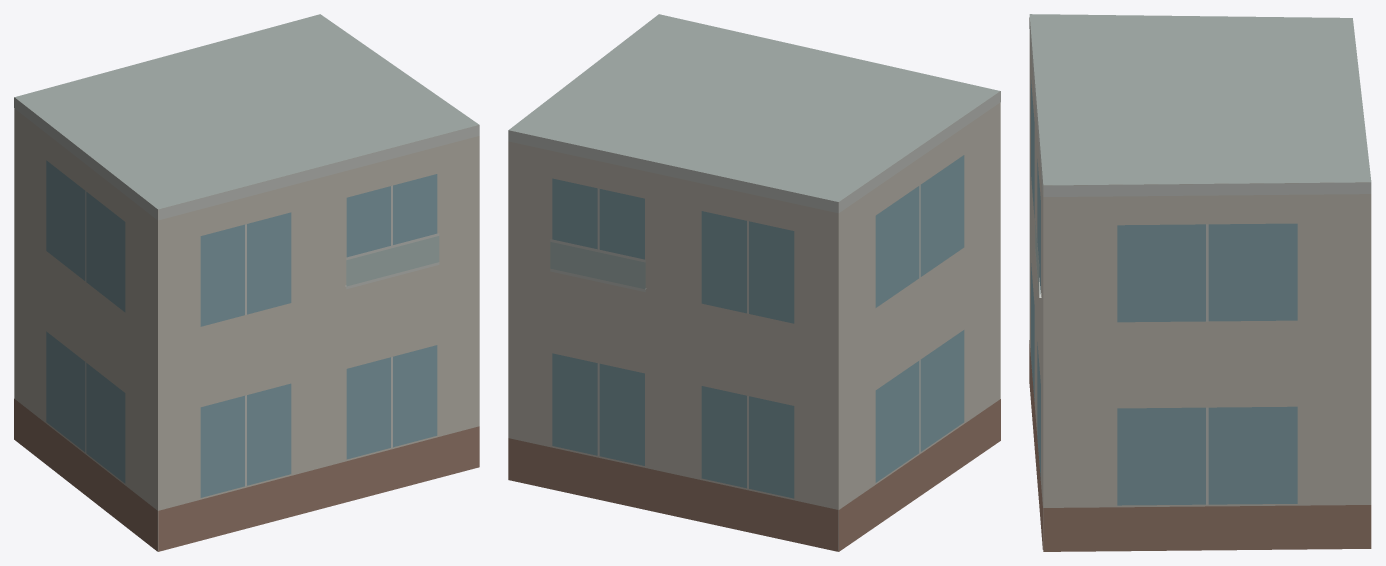
Rendered from survey-upis-32611314.glb.
3 views of the same model, side by side, from view 1: azimuth 30°, elevation 25°; view 2: azimuth 150°, elevation 25°; view 3: azimuth 270°, elevation 25° (orthographic). The views are drawn at different scales.
Parts seen in each view (by area): view 1: survey-upis-32611314.tmp; view 2: survey-upis-32611314.tmp; view 3: survey-upis-32611314.tmp.
Boxes of the visible parts, x1,y1,x2,y2 form: survey-upis-32611314.tmp: (14, 14, 479, 551); survey-upis-32611314.tmp: (508, 14, 1000, 551); survey-upis-32611314.tmp: (1029, 14, 1371, 551).
Size of the model in its own units: 7.63 by 7.6 by 6.44.
